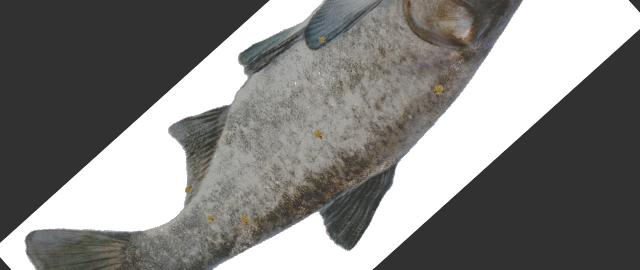Parasitic Disease: (25, 0, 521, 270), (25, 0, 521, 270)
